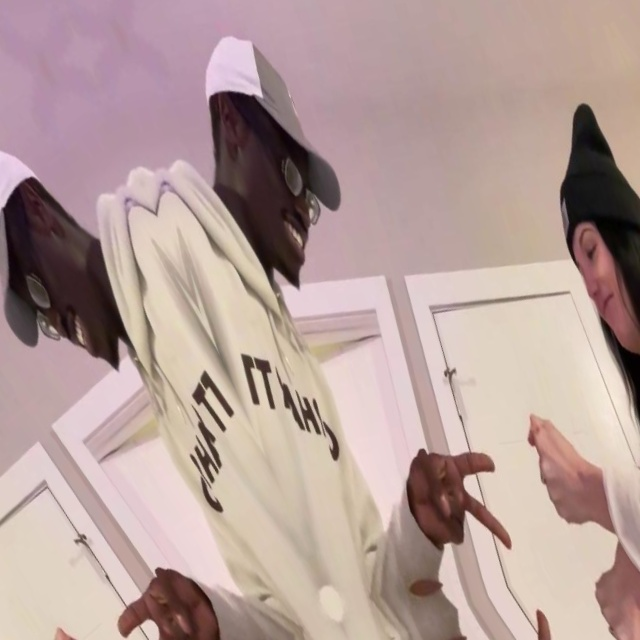Rock: (14, 609, 141, 640)
Scissors: (94, 546, 246, 640)
